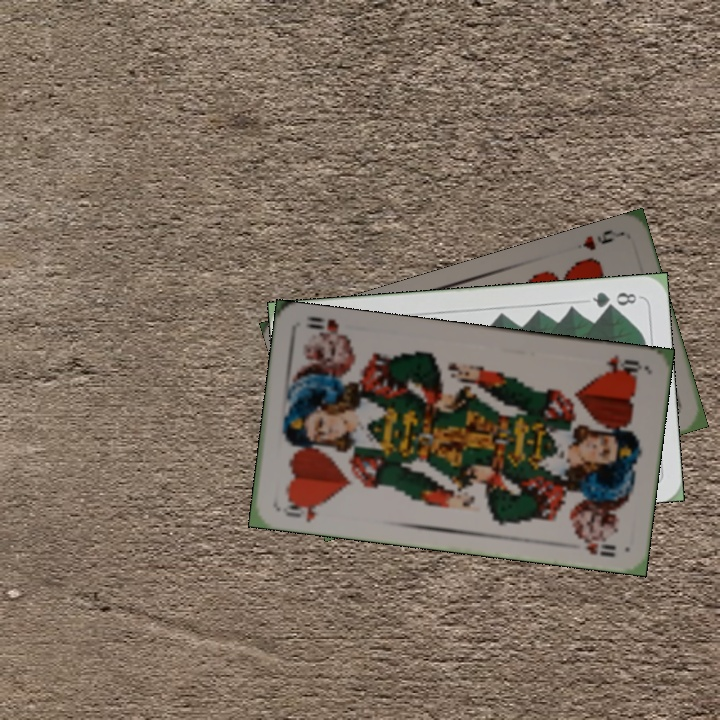G8: (588, 288, 642, 311)
H9: (579, 225, 624, 254)
HO: (278, 495, 330, 525), (601, 351, 645, 379)
